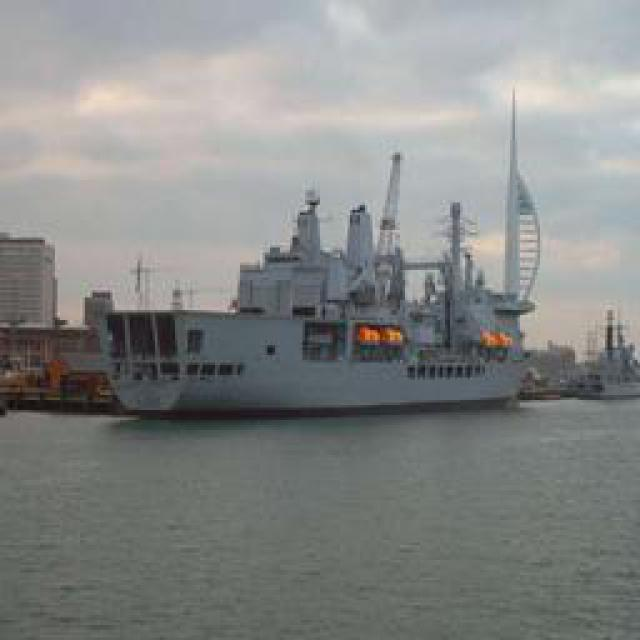Ship: (91, 117, 536, 417)
